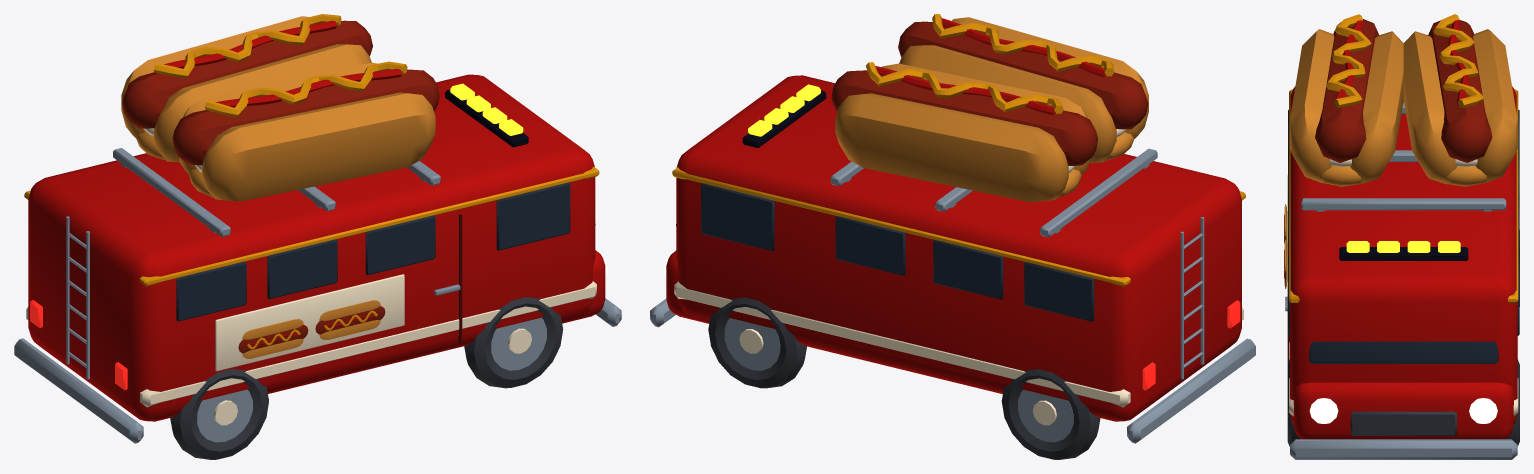
The model's file is BigVan.fbx.
The picture shows the model from 3 angles, left to right: view 1: azimuth 30°, elevation 25°; view 2: azimuth 150°, elevation 25°; view 3: azimuth 270°, elevation 25°; orthographic projection. The views are drawn at different scales.
Parts seen in each view (by area): view 1: BigVan; view 2: BigVan; view 3: BigVan.
Boxes of the visible parts, <box> form: BigVan: <box>14,14,621,459</box>; BigVan: <box>650,14,1255,459</box>; BigVan: <box>1284,14,1519,459</box>.
Bounding box in the file's own units: 14.05 × 8.99 × 6.21.
